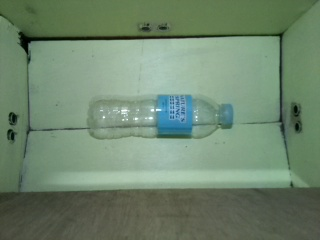bottle: (88, 95, 235, 138)
